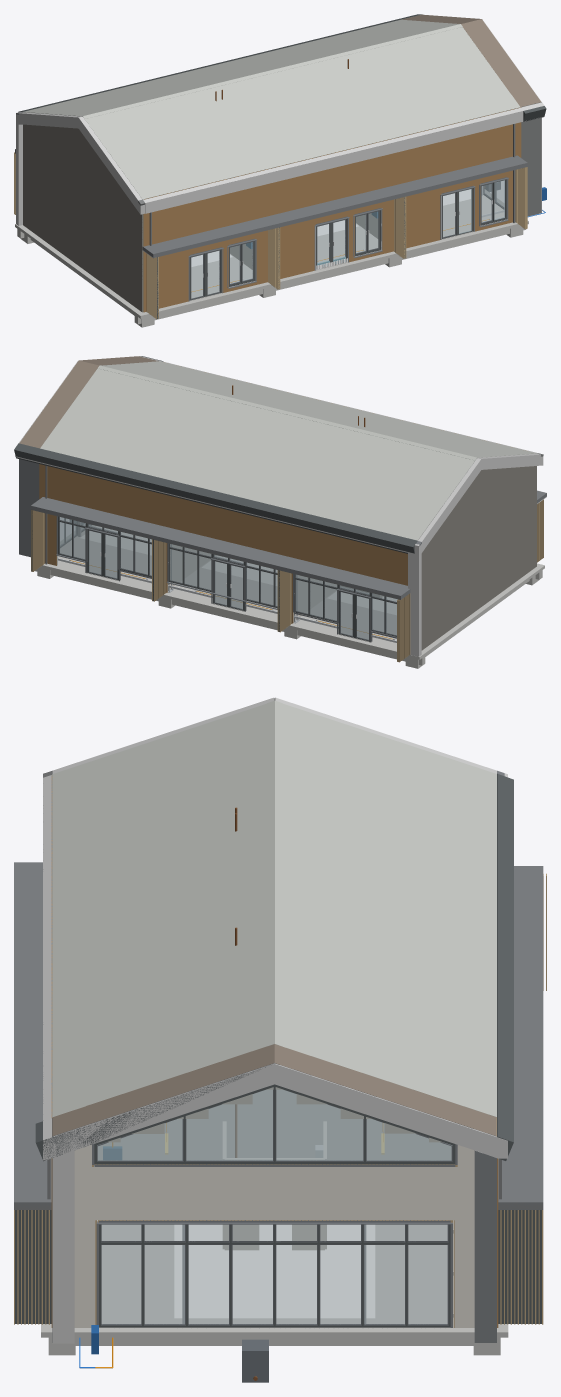
File: Nave1_modelo_completo_PIR_gris_claro.dae
3 views of the same model, one above another, from view 1: azimuth 30°, elevation 25°; view 2: azimuth 150°, elevation 25°; view 3: azimuth 270°, elevation 25° (orthographic). The views are drawn at different scales.
Parts seen in each view (by area): view 1: Cara limpia · lateral sur, Cara limpia · fondo, Solei_Solei, Alero#1_Alero, Vísera#2_Vísera (×2), Solei#3_Solei, Cabeza_Cabeza, PR-S · P01, PR-S · P09, PR-S · P11, PR-S · P03, PR-S · P04 (+43 smaller); view 2: Cara limpia · fondo, Cara limpia · lateral norte, Solei_Solei, Vísera#1_Vísera (×2), CENEFA LARGA, Vidriera#1_Vidriera (×4), Vidriera_Vidriera (×3), Divisiones internas (×5), Solei#2_Solei, Vidriera#2_Vidriera (×3), Cabeza_Cabeza, Alero#1_Alero (+46 smaller); view 3: Vidriera#3_Vidriera (×4), Divisiones internas (×3), Cara limpia · frente, Ventana#3_Ventana (×4), Solei_Solei, Vísera#1_Vísera, Vísera#2_Vísera, CENEFA SIMPLE FRONTAL, Cabeza_Cabeza, CENEFA LARGA, Cumbrera, Alero#1_Alero (+47 smaller).
Boxes of the visible parts, x1=… form: Cara limpia · lateral sur: x1=143, y1=107, x2=521, y2=312; Cara limpia · fondo: x1=23, y1=112, x2=142, y2=312; Solei_Solei: x1=15, y1=189, x2=528, y2=324; Alero#1_Alero: x1=19, y1=102, x2=544, y2=214; Vísera#2_Vísera (×2): x1=142, y1=155, x2=527, y2=258; Solei#3_Solei: x1=146, y1=167, x2=527, y2=319; Cabeza_Cabeza: x1=403, y1=14, x2=540, y2=106; PR-S · P01: x1=85, y1=114, x2=162, y2=199; PR-S · P09: x1=249, y1=74, x2=326, y2=159; PR-S · P11: x1=290, y1=64, x2=367, y2=149; PR-S · P03: x1=126, y1=104, x2=203, y2=189; PR-S · P04: x1=146, y1=99, x2=224, y2=184; Cara limpia · fondo: x1=418, y1=466, x2=536, y2=650; Cara limpia · lateral norte: x1=39, y1=464, x2=407, y2=623; Solei_Solei: x1=35, y1=524, x2=544, y2=665; Vísera#1_Vísera (×2): x1=31, y1=497, x2=410, y2=599; CENEFA LARGA: x1=14, y1=356, x2=417, y2=553; Vidriera#1_Vidriera (×4): x1=166, y1=543, x2=277, y2=609; Vidriera_Vidriera (×3): x1=294, y1=574, x2=397, y2=636; Divisiones internas (×5): x1=81, y1=526, x2=397, y2=619; Solei#2_Solei: x1=31, y1=510, x2=410, y2=662; Vidriera#2_Vidriera (×3): x1=58, y1=516, x2=151, y2=577; Cabeza_Cabeza: x1=19, y1=356, x2=158, y2=448; Alero#1_Alero: x1=139, y1=356, x2=543, y2=549; Vidriera#3_Vidriera (×4): x1=96, y1=1220, x2=452, y2=1328; Divisiones internas (×3): x1=98, y1=1090, x2=451, y2=1318; Cara limpia · frente: x1=74, y1=1144, x2=474, y2=1327; Ventana#3_Ventana (×4): x1=92, y1=1084, x2=457, y2=1166; Solei_Solei: x1=41, y1=1220, x2=508, y2=1351; Vísera#1_Vísera: x1=498, y1=866, x2=543, y2=1209; Vísera#2_Vísera: x1=14, y1=862, x2=51, y2=1208; CENEFA SIMPLE FRONTAL: x1=52, y1=773, x2=507, y2=1158; Cabeza_Cabeza: x1=52, y1=1044, x2=496, y2=1136; CENEFA LARGA: x1=35, y1=773, x2=513, y2=1161; Cumbrera: x1=267, y1=700, x2=282, y2=1046; Alero#1_Alero: x1=43, y1=697, x2=496, y2=1160.
Bounding box in the file's own units: 23.36 × 13.8 × 8.98.
